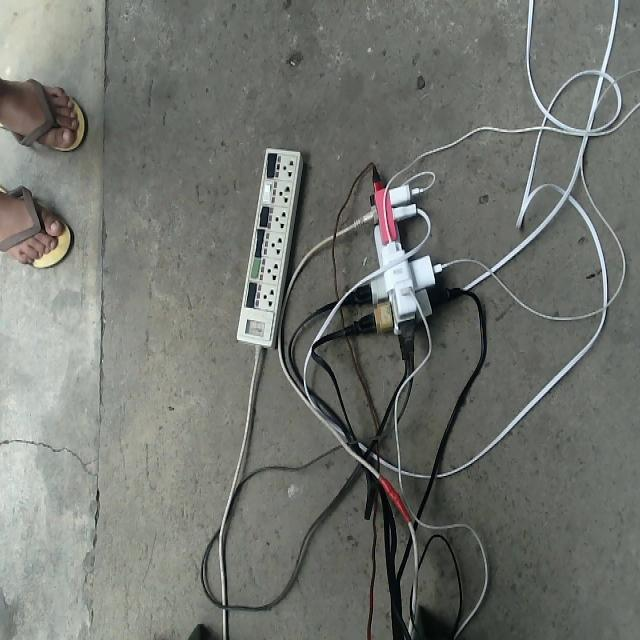-: (332, 163, 463, 364)
